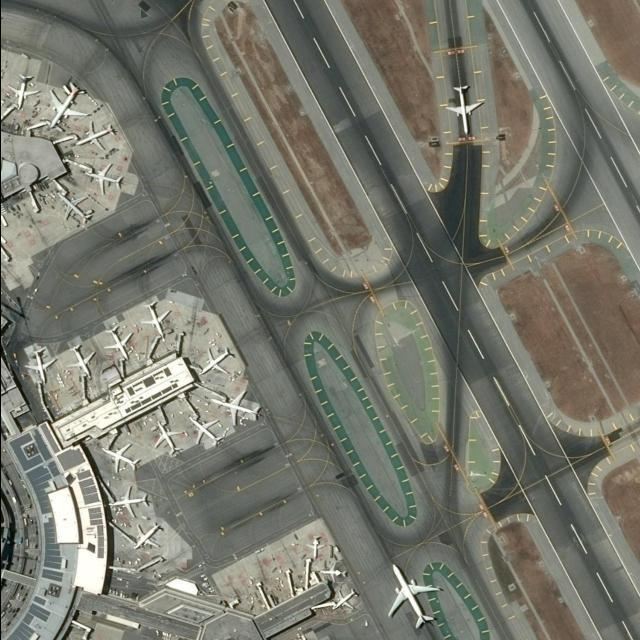Aircraft: (385, 564, 441, 632), (442, 86, 486, 138), (50, 81, 90, 129), (209, 392, 259, 426), (55, 193, 93, 229), (100, 444, 142, 476), (87, 165, 129, 196), (183, 417, 223, 448), (104, 327, 134, 366), (11, 71, 39, 111), (144, 302, 173, 340), (111, 488, 149, 517), (202, 347, 236, 379), (130, 523, 166, 553), (67, 342, 95, 380), (26, 350, 57, 384), (154, 423, 184, 455), (333, 589, 358, 612), (322, 563, 347, 583), (306, 537, 324, 559)
